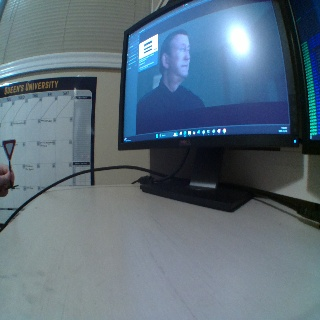sign_yield: (1, 139, 16, 157)
